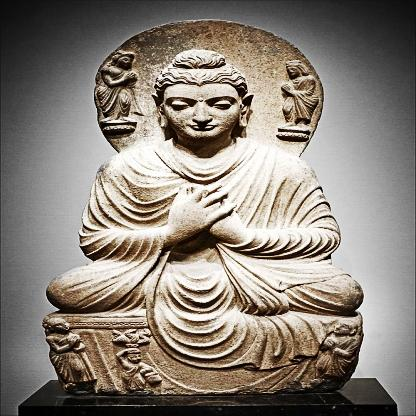buddha-sitting: (43, 18, 361, 394)
